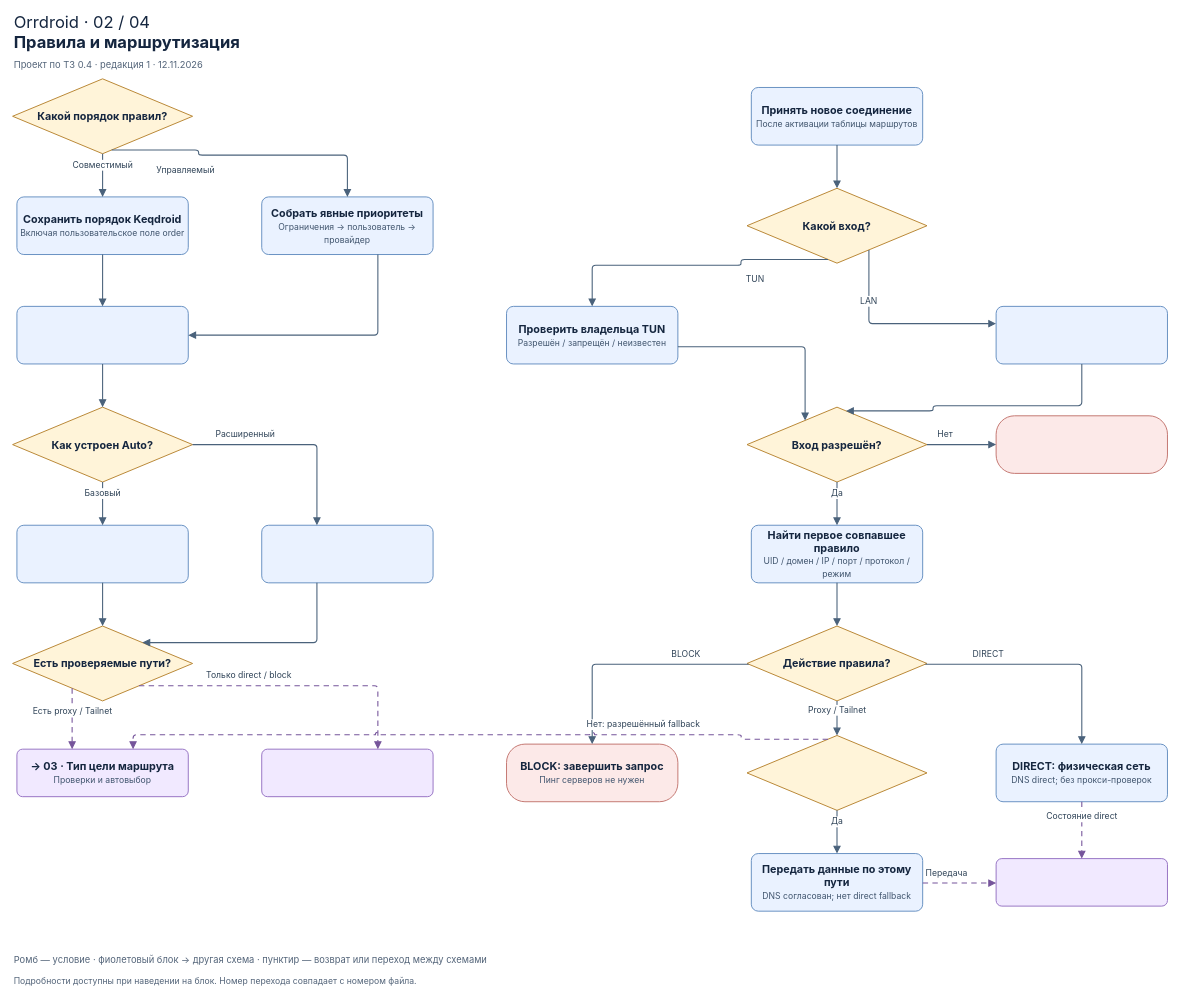
Image size: 1184x1002. Some labels were removed from this diagram. The centre of each missing label's shape, as x and y in pixels:
"Базовый: один общий выход Proxy-правила → GlobalAuto → профиль" belongs at (102,553).
"Назначенный путь готов?" belongs at (836,773).
"Отклонить соединение Неавторизованный / запрещённый вход" belongs at (1081,444).
"Проверить LAN-доступ Выбранный интерфейс + логин/пароль" belongs at (1081,334).
"Расширенный: Auto по маршрутам Правило → группа → свой профиль" belongs at (347,553).
"Скомпилировать правила и DNS Overrides, hosts, стабильные ID" belongs at (102,334).
"→ 04 · Мониторинг маршрутов Мониторинг и восстановление" belongs at (1081,882).
"→ 04 · Применение маршрута Мониторинг и восстановление" belongs at (347,772).
